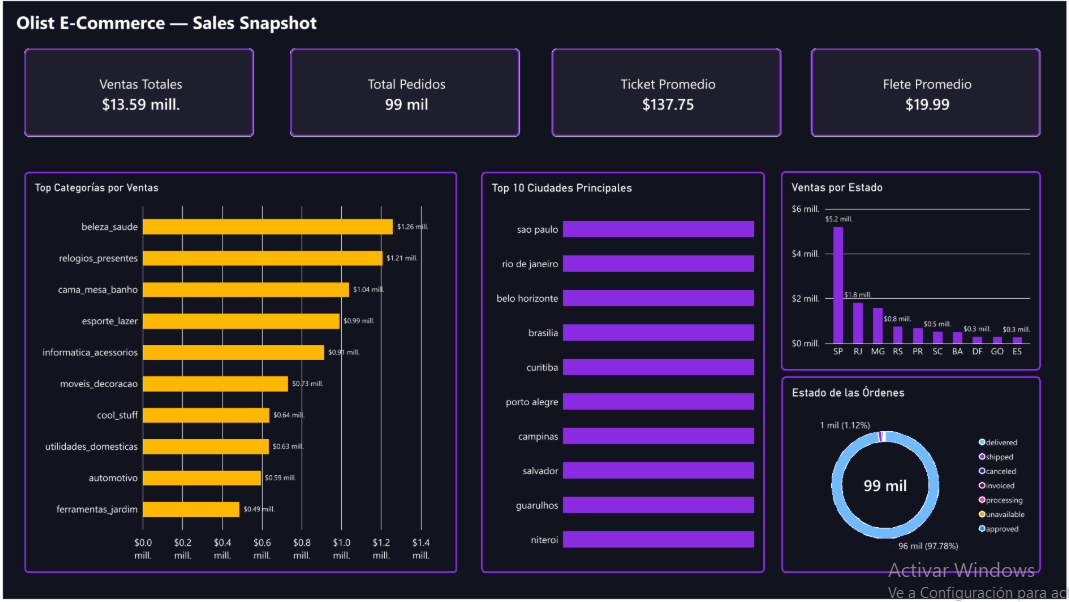

Layout of this report page (visuals, bound fields, positions):
{"tool":"powerbi","page":{"name":"Página 1","canvas":[1920,1080],"ordinal":0},"visuals":[{"type":"cardVisual","fields":{"Data":["_Medidas.Ventas Totales"]},"box":[37.5,102.5,415,160],"z":0},{"type":"cardVisual","fields":{"Data":["_Medidas.Ticket Promedio"]},"box":[1000,102.5,415,160],"z":1000},{"type":"cardVisual","fields":{"Data":["_Medidas.Flete Promedio"]},"box":[1475,102.5,415,160],"z":2000},{"type":"cardVisual","fields":{"Data":["_Medidas.Total Pedidos"]},"box":[522.5,102.5,415,160],"z":3000},{"type":"textbox","box":[15,15,580,55],"z":4000},{"type":"barChart","title":"Top Categorías por Ventas","fields":{"Category":["vw_Olist_Sales.product_category_name"],"Y":["_Medidas.Ventas Totales"]},"box":[37.5,307.5,850,725],"z":5000},{"type":"columnChart","title":"Ventas por Estado","fields":{"Category":["vw_Olist_Sales.customer_state"],"Y":["_Medidas.Ventas Totales"]},"box":[1412.5,662.5,445,360],"z":6000},{"type":"donutChart","title":"Estado de las Órdenes","fields":{"Category":["vw_Olist_Sales.order_status"],"Y":["_Medidas.Total Pedidos"]},"box":[915,667.5,475,355],"z":7000},{"type":"hundredPercentStackedBarChart","title":"Top 10 Ciudades Principales","fields":{"Category":["vw_Olist_Sales.customer_city"],"Y":["_Medidas.Ventas Totales"]},"box":[915,307.5,975,330],"z":8000}]}

Visuals, with their boxes in screenshot pixels (x1, y1, x2, y2), scaled from the page's 1920x1080 canvas onto the 1069x602 screenshot:
cardVisual - _Medidas.Ventas Totales: <bbox>21, 57, 252, 146</bbox>
cardVisual - _Medidas.Ticket Promedio: <bbox>557, 57, 788, 146</bbox>
cardVisual - _Medidas.Flete Promedio: <bbox>821, 57, 1052, 146</bbox>
cardVisual - _Medidas.Total Pedidos: <bbox>291, 57, 522, 146</bbox>
textbox: <bbox>8, 8, 331, 39</bbox>
"Top Categorías por Ventas" barChart: <bbox>21, 171, 494, 576</bbox>
"Ventas por Estado" columnChart: <bbox>786, 369, 1034, 570</bbox>
"Estado de las Órdenes" donutChart: <bbox>509, 372, 774, 570</bbox>
"Top 10 Ciudades Principales" hundredPercentStackedBarChart: <bbox>509, 171, 1052, 355</bbox>
